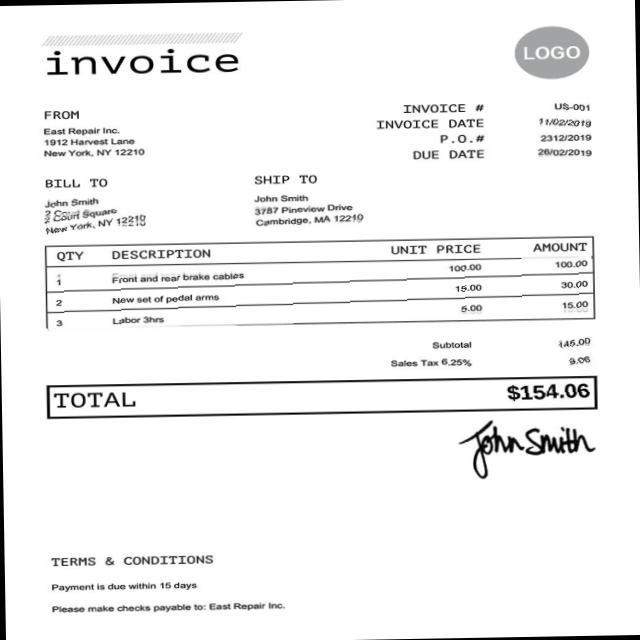customer_address: (36, 205, 154, 238)
customer_name: (40, 194, 106, 207)
due_date: (534, 143, 594, 162)
invoice_date: (534, 114, 598, 128)
invoice_number: (552, 97, 591, 115)
invoice_subtotal: (554, 334, 600, 349)
invoice_total: (498, 379, 598, 405)
item_description: (106, 267, 248, 327)
item_quantity: (50, 269, 72, 328)
item_total_price: (552, 256, 593, 316)
item_unit_price: (440, 260, 488, 316)
supplier_address: (40, 136, 151, 161)
supplier_name: (39, 125, 127, 136)
tax_amount: (563, 351, 600, 370)
tax_rate: (439, 353, 475, 371)
